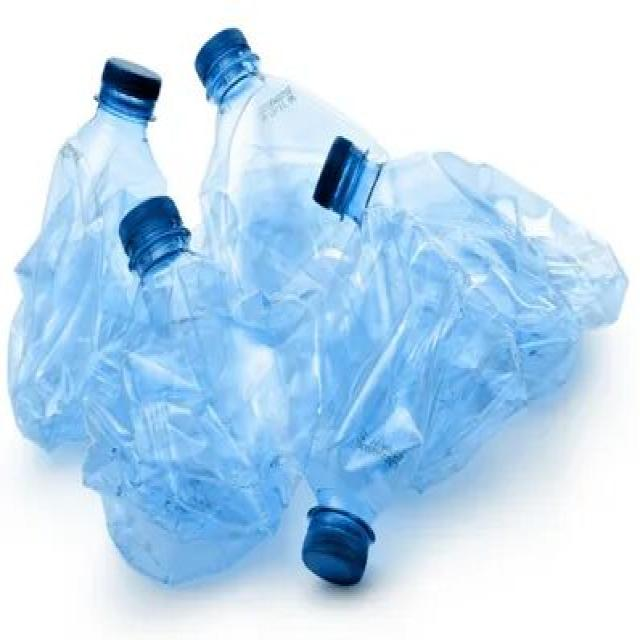blue: (79, 225, 322, 587), (8, 83, 170, 457), (198, 43, 395, 312)
